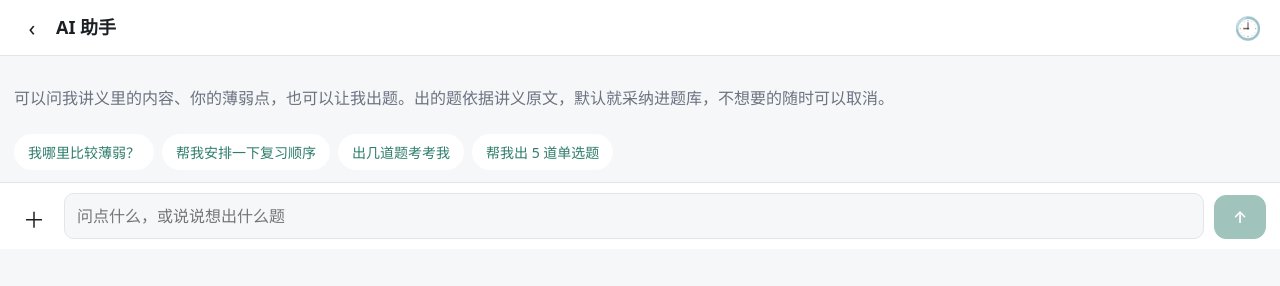
Test case: study assistant › AgentView › typing and sending clears the box; stop appears while the answer is written and keeps what came
Type "讲讲锁" into the text box with test id "agent-input" showing "问点什么，或说说想出什么题" at (634, 216), box [64, 193, 1204, 239]
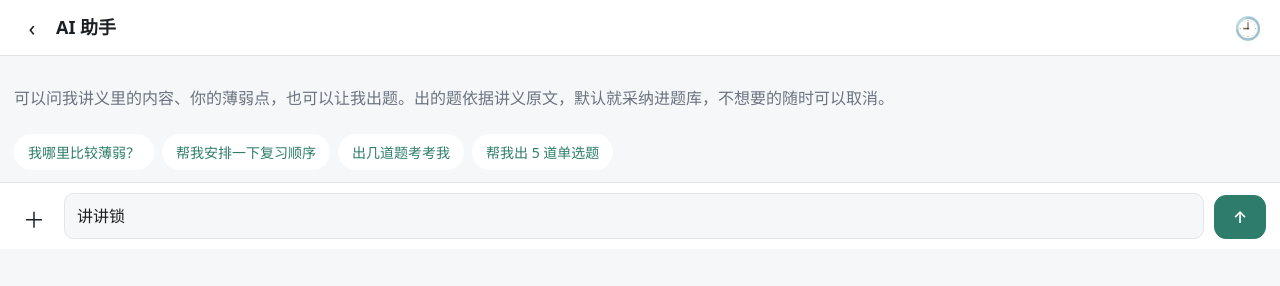
Click the button with test id "agent-send" at (1240, 217), box [1214, 195, 1266, 239]
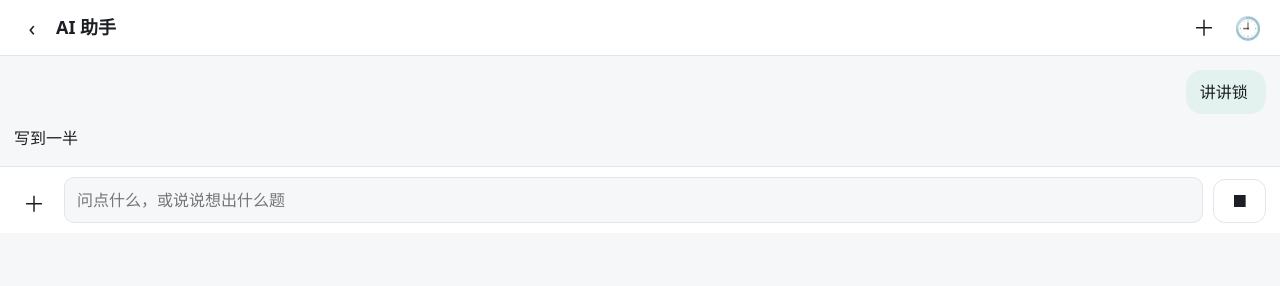
Result: the text box with test id "agent-input" is empty at [64, 177, 1203, 223]
Result: the button with test id "agent-stop" is shown
Click the button with test id "agent-stop" at (1240, 201), box [1213, 179, 1266, 223]
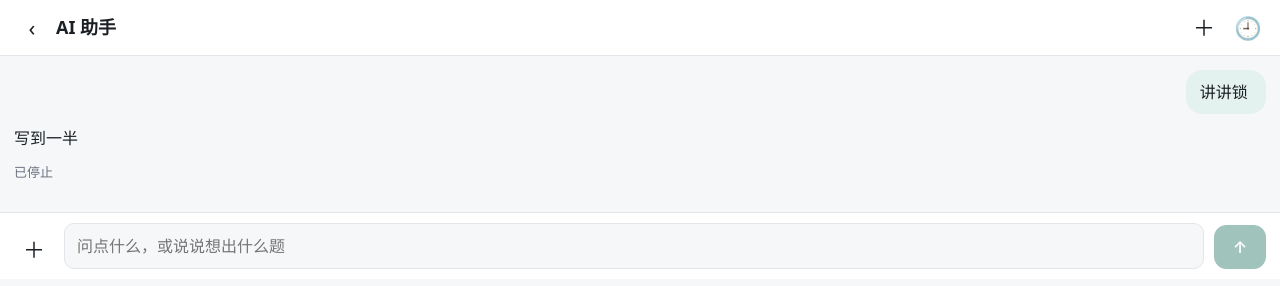
Result: the text "写到一半" is shown at [14, 127, 78, 149]
Result: the text "已停止" is shown at [14, 163, 53, 181]
